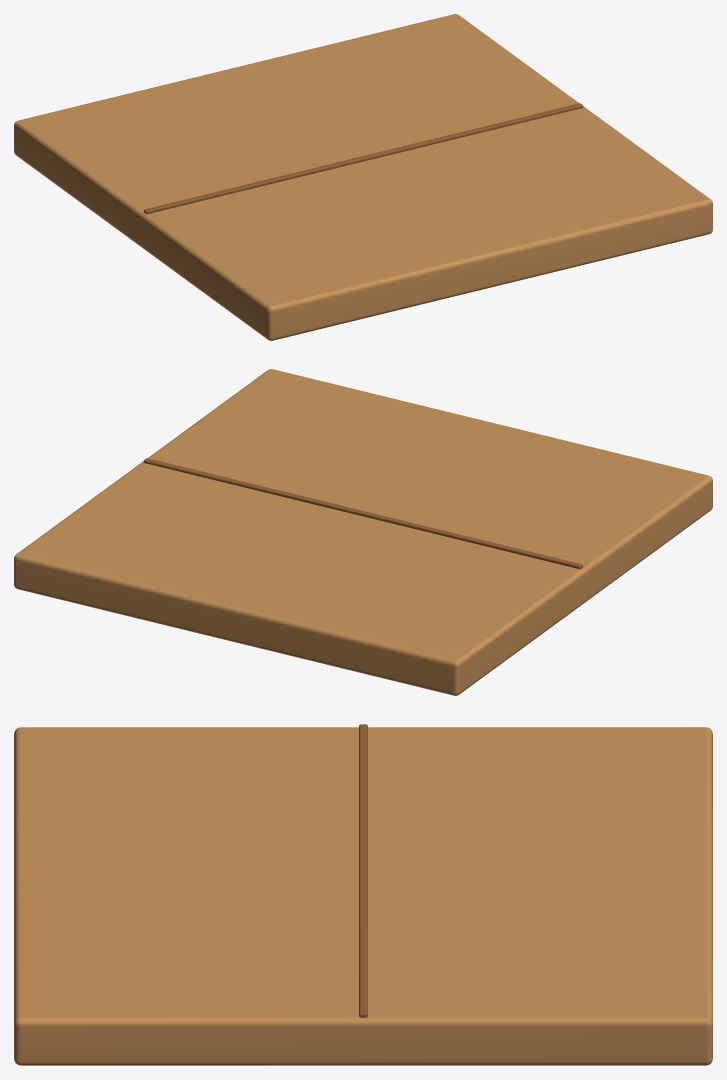
Rendered from floor-wood.obj.
3 views of the same model, one above another, from view 1: azimuth 30°, elevation 25°; view 2: azimuth 150°, elevation 25°; view 3: azimuth 270°, elevation 25° (orthographic). The views are drawn at different scales.
Parts seen in each view (by area): view 1: floor-wood_oak, floor-wood_oakDark; view 2: floor-wood_oak, floor-wood_oakDark; view 3: floor-wood_oak, floor-wood_oakDark.
Part boxes in pixels (x1,y1,x2,y2): floor-wood_oak: (14, 14, 712, 340); floor-wood_oakDark: (143, 103, 583, 214); floor-wood_oak: (14, 369, 712, 695); floor-wood_oakDark: (143, 458, 583, 569); floor-wood_oak: (14, 727, 712, 1065); floor-wood_oakDark: (359, 724, 367, 1017).
Size of the model in its own units: 0.799 by 0.065 by 0.799.
